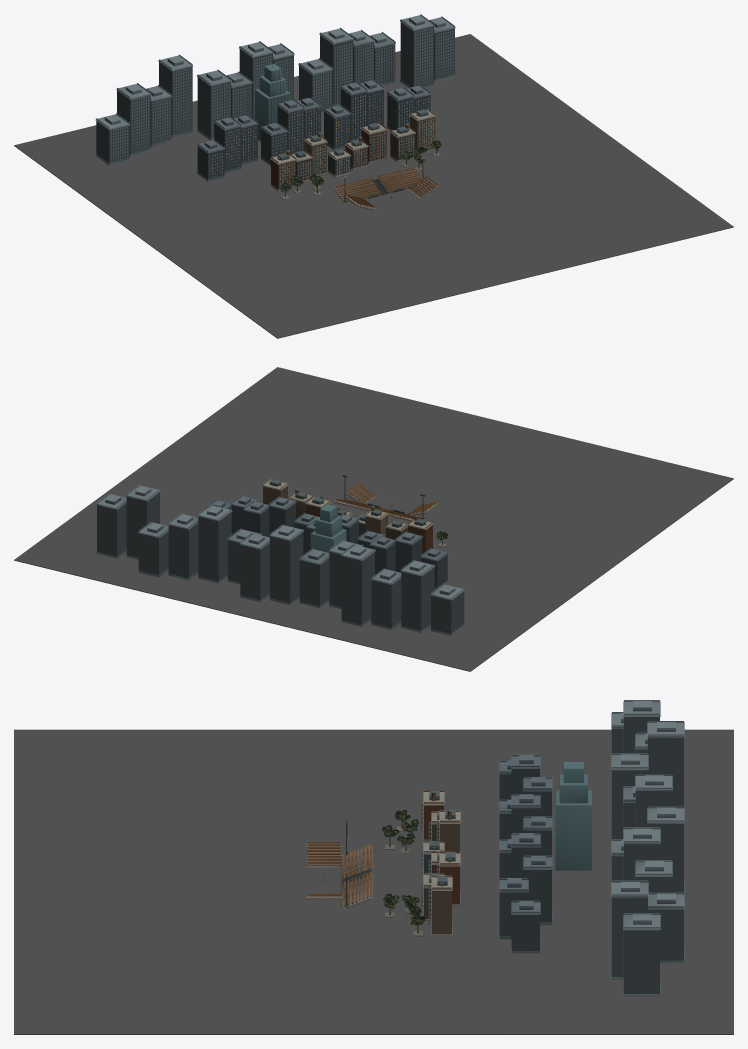
Rendered from outdoor.glb.
The picture shows the model from 3 angles, top to bottom: view 1: azimuth 30°, elevation 25°; view 2: azimuth 150°, elevation 25°; view 3: azimuth 270°, elevation 25°; orthographic projection. The views are drawn at different scales.
Visible parts, largest first — view 1: Outdoor_Static; view 2: Outdoor_Static; view 3: Outdoor_Static.
Boxes of the visible parts, bbox=[...] form: Outdoor_Static: bbox=[14, 14, 733, 338]; Outdoor_Static: bbox=[14, 367, 733, 671]; Outdoor_Static: bbox=[14, 700, 733, 1034].
Bounding box in the file's own units: 180 × 30.41 × 180.
